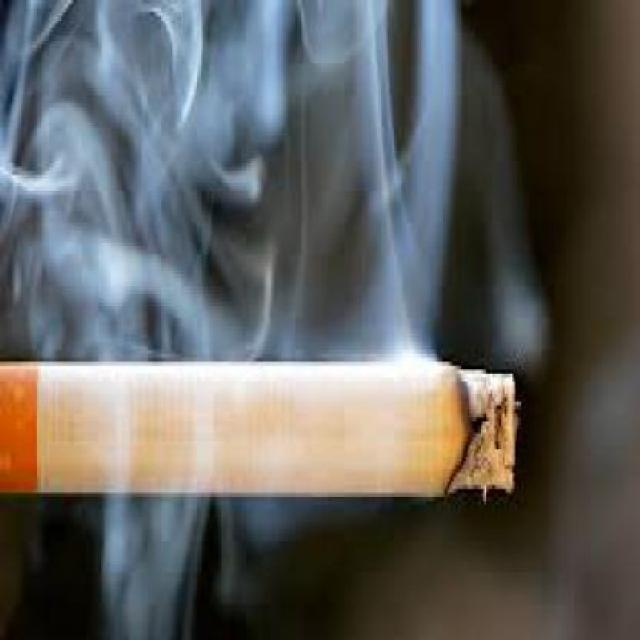cigarette: (8, 338, 578, 556)
